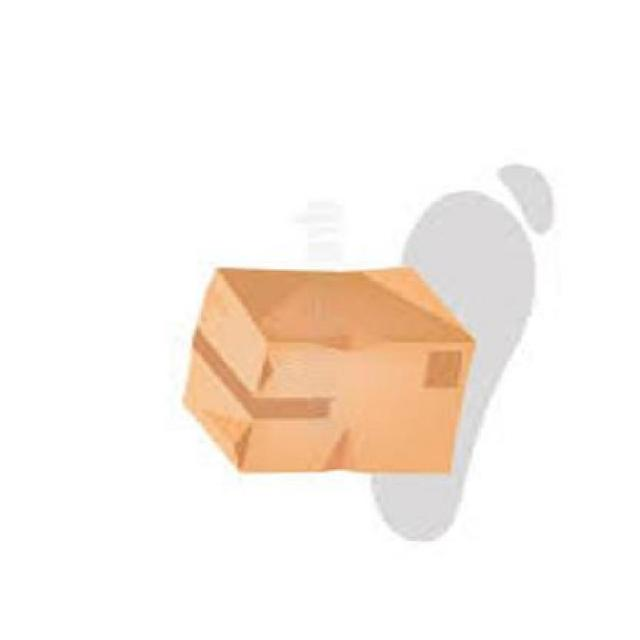defect: (169, 257, 522, 480)
